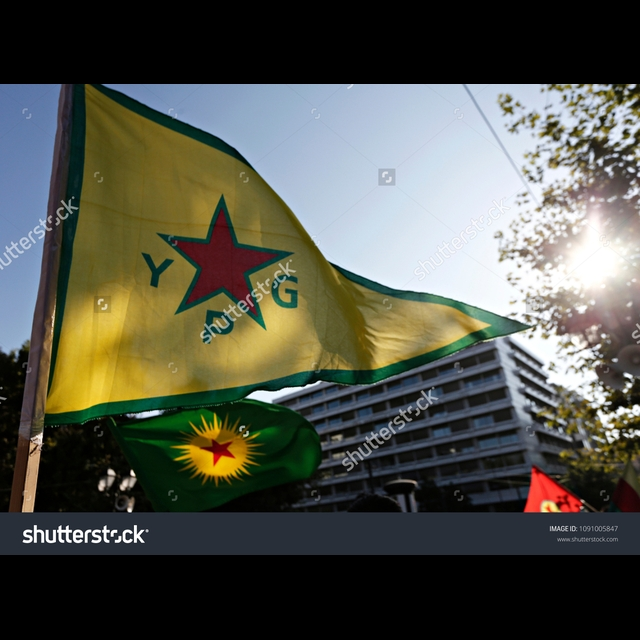KCK: (170, 414, 259, 486)
YPG: (133, 190, 304, 341)
